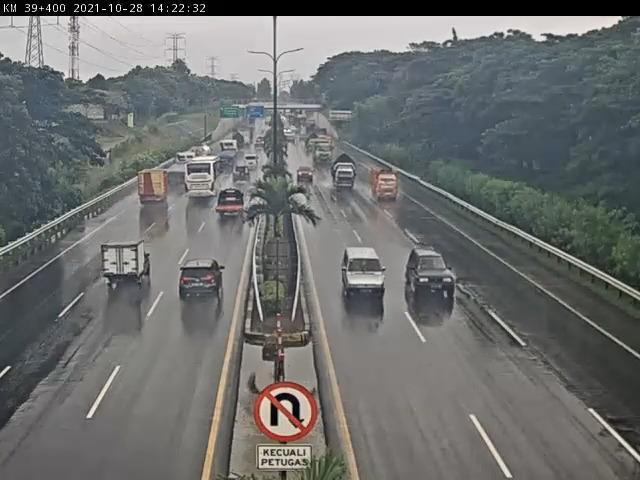bus: (184, 157, 223, 201)
car: (100, 240, 152, 291), (405, 249, 457, 297), (177, 258, 227, 305), (343, 247, 387, 297), (233, 166, 253, 186), (298, 166, 317, 184)
truck: (139, 170, 171, 205), (371, 167, 400, 204), (333, 155, 357, 192), (218, 190, 245, 216)
